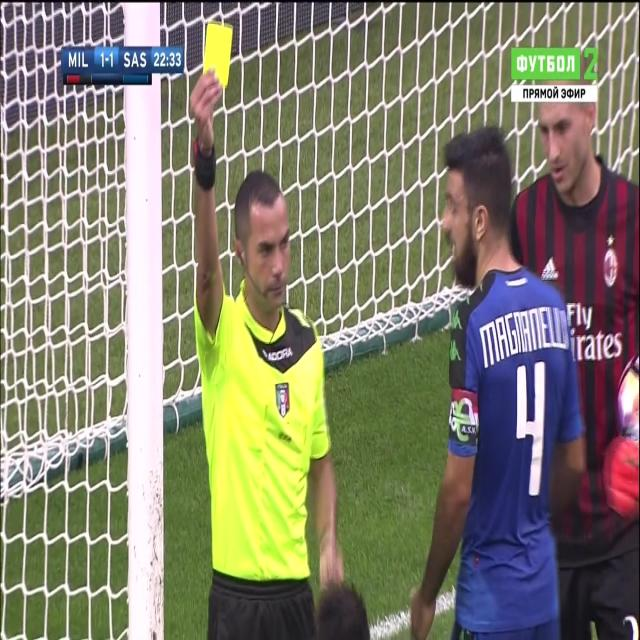Player: (408, 124, 586, 636), (513, 68, 640, 639)
Referee: (186, 68, 344, 640)
